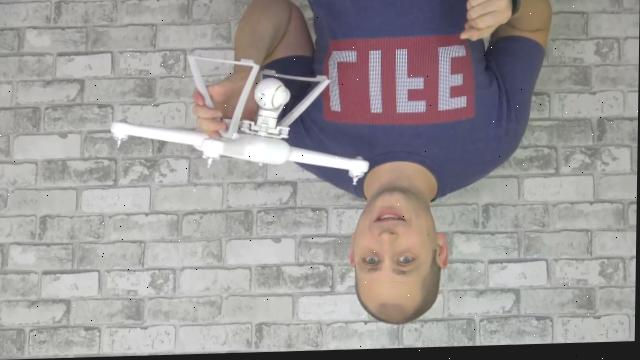drone: (107, 44, 376, 193)
